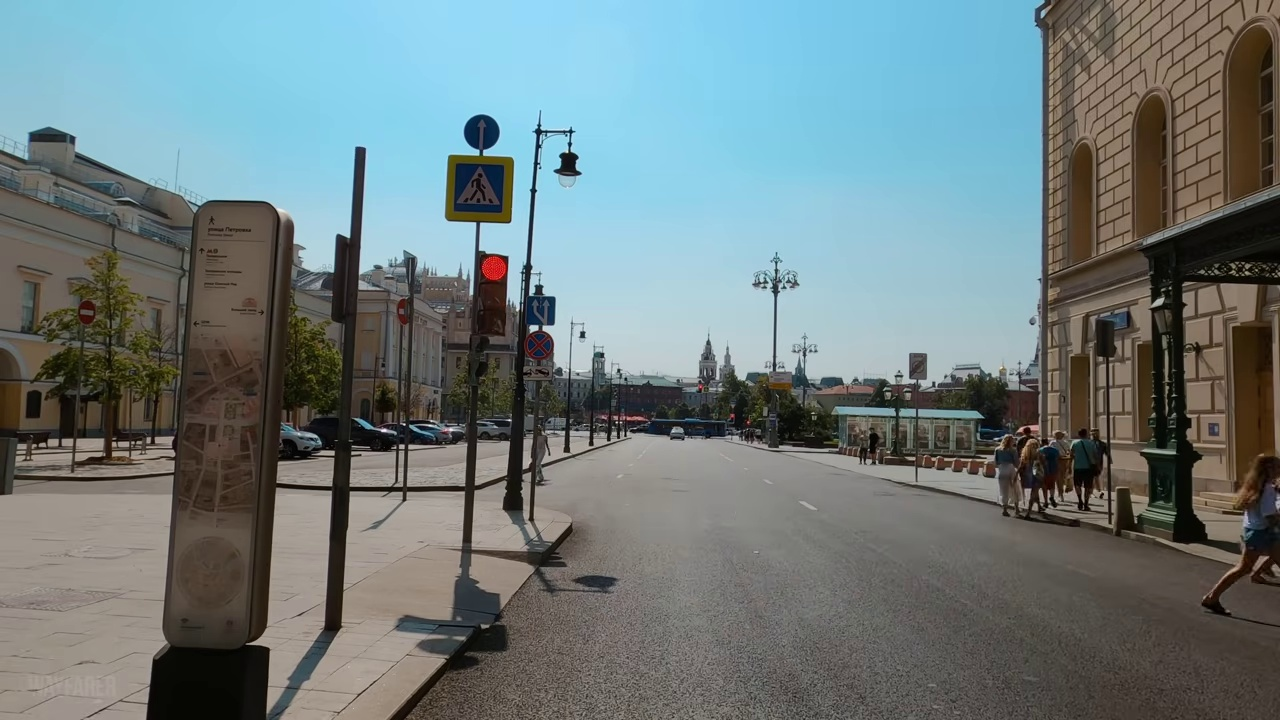apagada: (750, 267, 800, 300), (556, 147, 585, 197)
